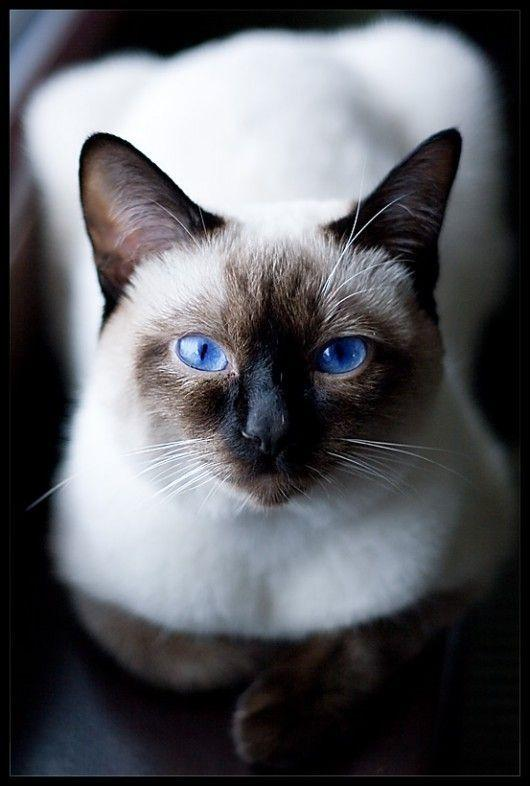siamese: (72, 125, 473, 521)
